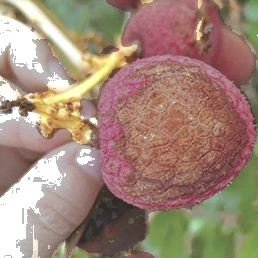Frost_Blight: (102, 66, 253, 192)
